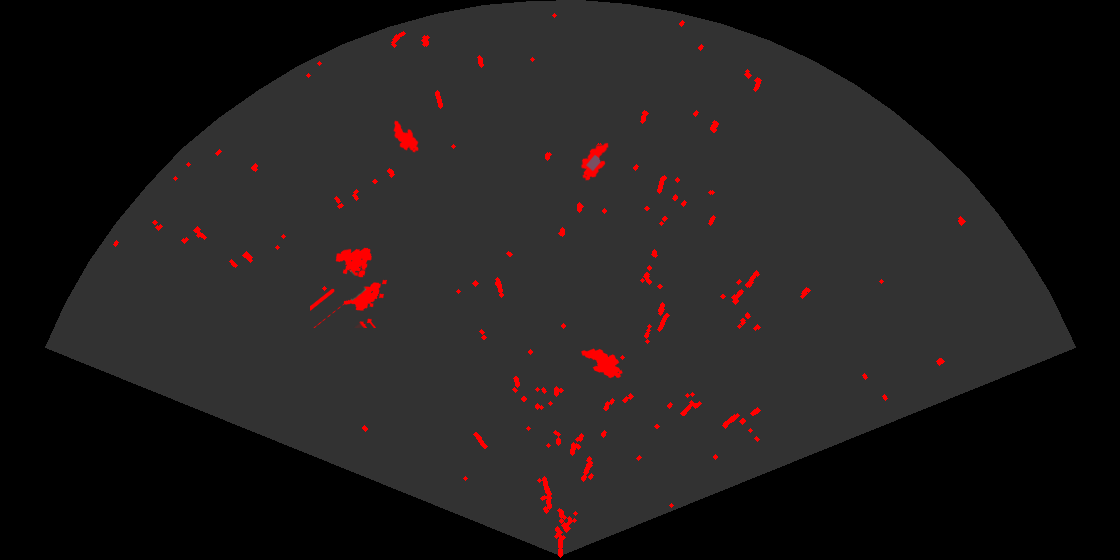AUV: (580, 347, 624, 380), (579, 141, 610, 182), (392, 119, 420, 154)
cage: (310, 246, 389, 328)
